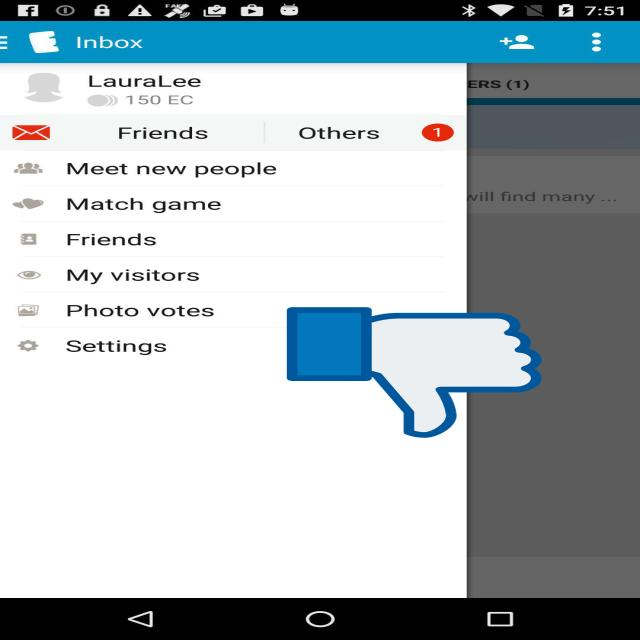obstruction: (286, 304, 542, 441)
